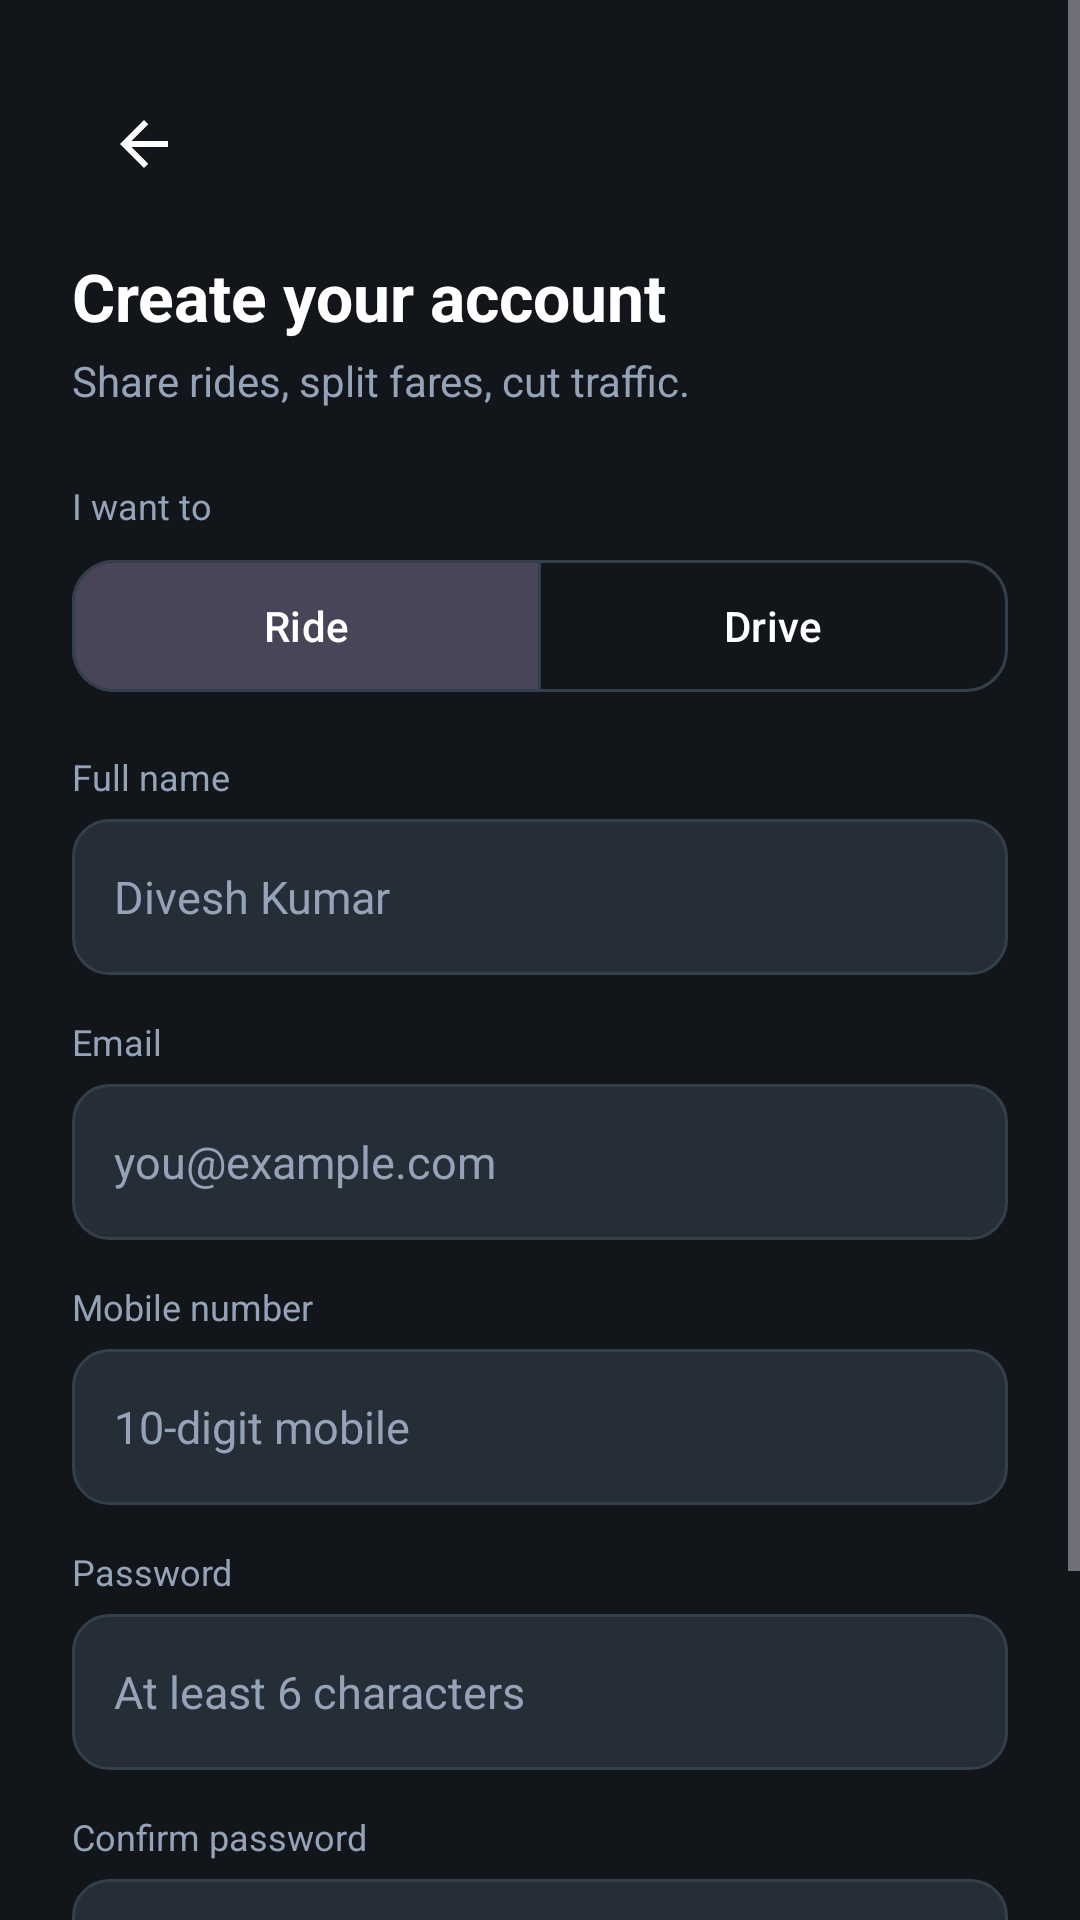

Icons on this 1080px×1920px Android screen, each with its box as (x1, y1, x2, y2):
Back: (120, 120, 168, 168)
